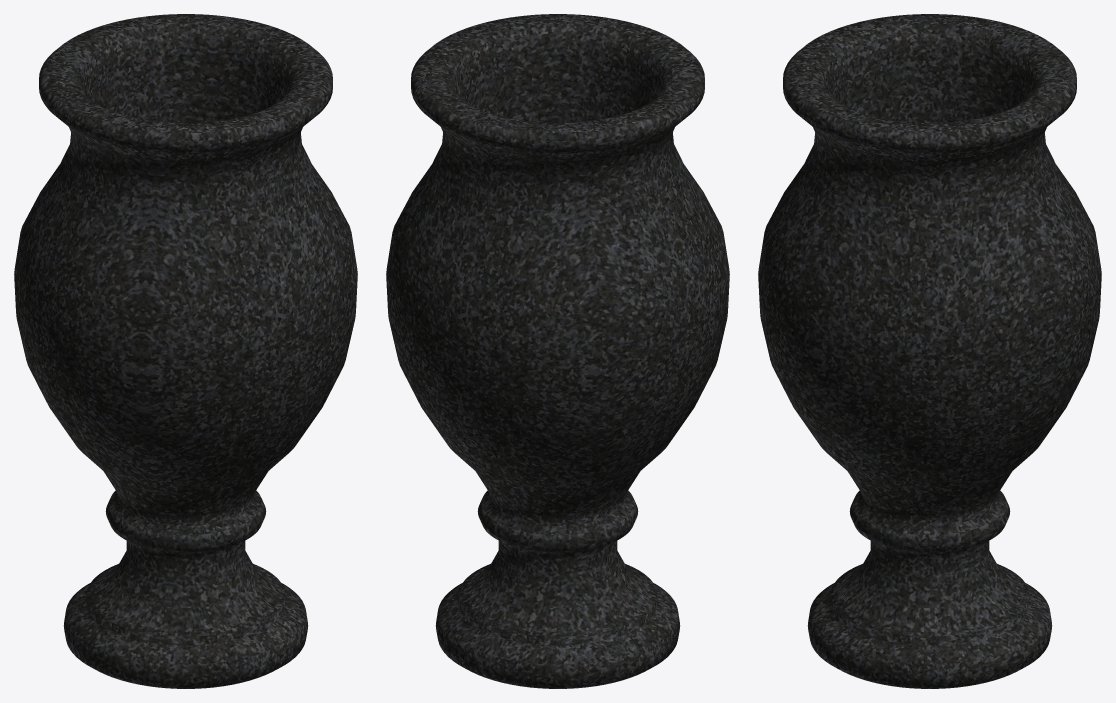
File: vase.glb
3 renders of one model, left to right at view 1: azimuth 30°, elevation 25°; view 2: azimuth 150°, elevation 25°; view 3: azimuth 270°, elevation 25°, orthographic.
Parts seen in each view (by area): view 1: SM_vase; view 2: SM_vase; view 3: SM_vase.
Part boxes in pixels (box(x1,y1,x2,y2)): SM_vase: box(14, 14, 357, 688); SM_vase: box(386, 14, 729, 688); SM_vase: box(758, 14, 1101, 688).
Bounding box in the file's own units: 0.18 × 0.328 × 0.18.
Materials: 1 (1 with a texture image).
